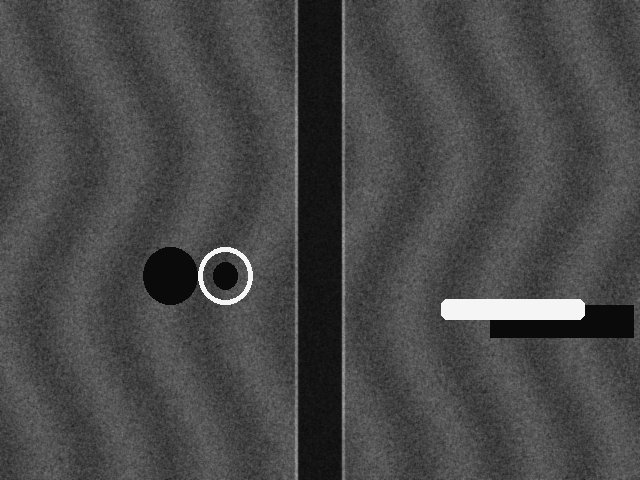Rubber Debris: (198, 247, 252, 304)
Wood Debris: (441, 299, 584, 319)
